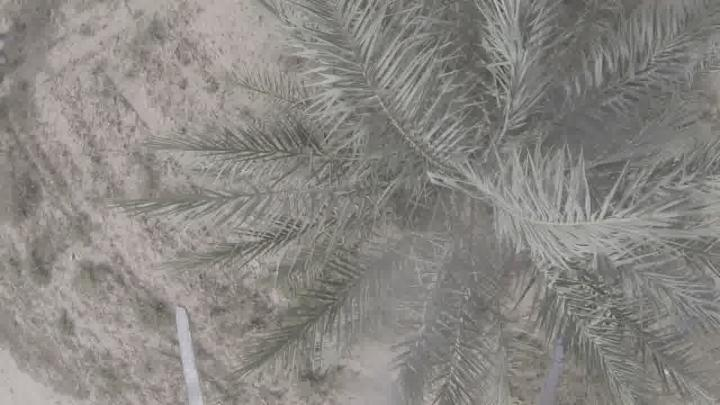Date-Palm-Crown: (307, 39, 664, 372)
